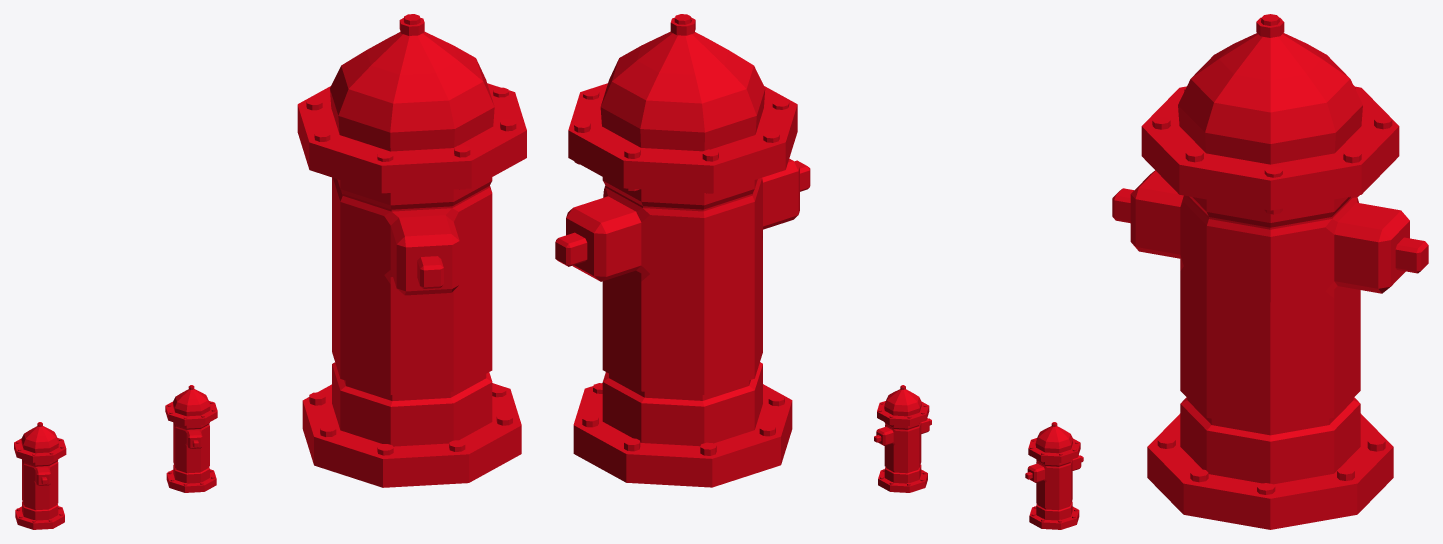
File: firehydrant.fbx
The picture shows the model from 3 angles, left to right: view 1: azimuth 30°, elevation 25°; view 2: azimuth 150°, elevation 25°; view 3: azimuth 270°, elevation 25°; orthographic projection. The views are drawn at different scales.
Parts seen in each view (by area): view 1: fire hydrant, fire hydrant .001, fire hydrant .002; view 2: fire hydrant, fire hydrant .002, fire hydrant .001; view 3: fire hydrant.
Part boxes in pixels (bbox=[...]): fire hydrant: bbox=[297, 14, 526, 487]; fire hydrant .001: bbox=[165, 385, 217, 492]; fire hydrant .002: bbox=[14, 422, 66, 529]; fire hydrant: bbox=[555, 14, 810, 487]; fire hydrant .002: bbox=[1025, 422, 1083, 529]; fire hydrant .001: bbox=[874, 385, 931, 492]; fire hydrant: bbox=[1112, 14, 1428, 529].
Bounding box in the file's own units: 507 × 413 × 257.
